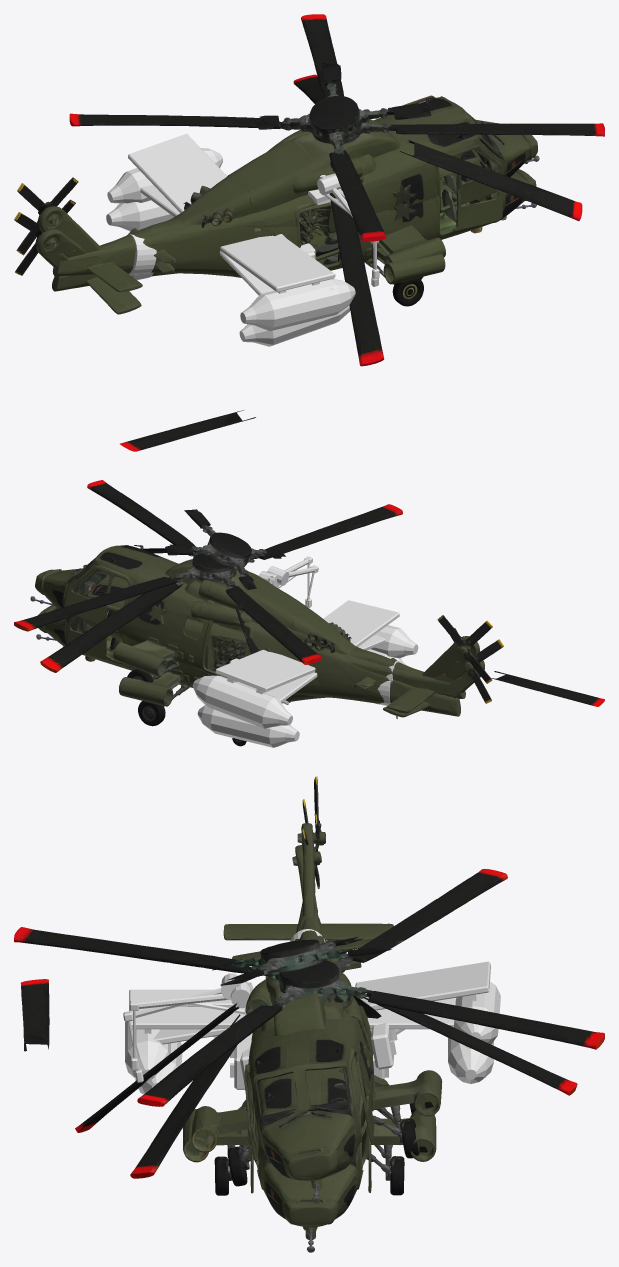
The model's file is air_medevac_heli.glb.
3 renders of one model, top to bottom at view 1: azimuth 30°, elevation 25°; view 2: azimuth 150°, elevation 25°; view 3: azimuth 270°, elevation 25°, orthographic. The views are drawn at different scales.
Parts seen in each view (by area): view 1: WRECK_hull_hull, hull_hull, WRECK_rotor_metal, medevac_hull, rotor_metal, WRECK_medevac_hull, WRECK_medevac_metal, medevac_plate; view 2: WRECK_hull_hull, hull_hull, rotor_metal, WRECK_rotor_metal, WRECK_medevac_hull, medevac_hull, WRECK_medevac_metal, medevac_metal; view 3: WRECK_hull_hull, hull_hull, rotor_metal, WRECK_rotor_metal, medevac_hull, WRECK_medevac_hull, medevac_metal, WRECK_medevac_metal.
Boxes of the visible parts, bbox=[...] form: WRECK_hull_hull: bbox=[14, 95, 539, 314]; hull_hull: bbox=[16, 149, 536, 306]; WRECK_rotor_metal: bbox=[120, 62, 582, 451]; medevac_hull: bbox=[106, 185, 355, 331]; rotor_metal: bbox=[69, 14, 604, 241]; WRECK_medevac_hull: bbox=[107, 133, 350, 346]; WRECK_medevac_metal: bbox=[308, 173, 378, 286]; medevac_plate: bbox=[127, 234, 156, 275]; WRECK_hull_hull: bbox=[30, 545, 503, 718]; hull_hull: bbox=[36, 574, 492, 746]; rotor_metal: bbox=[14, 480, 402, 664]; WRECK_rotor_metal: bbox=[40, 509, 604, 706]; WRECK_medevac_hull: bbox=[192, 634, 406, 728]; medevac_hull: bbox=[197, 600, 418, 747]; WRECK_medevac_metal: bbox=[267, 565, 318, 606]; medevac_metal: bbox=[259, 556, 312, 704]; WRECK_hull_hull: bbox=[191, 799, 442, 1202]; hull_hull: bbox=[183, 776, 436, 1252]; rotor_metal: bbox=[14, 869, 604, 1106]; WRECK_rotor_metal: bbox=[20, 936, 577, 1178]; medevac_hull: bbox=[125, 989, 493, 1089]; WRECK_medevac_hull: bbox=[135, 961, 500, 1094]; medevac_metal: bbox=[129, 981, 404, 1077]; WRECK_medevac_metal: bbox=[123, 973, 397, 1082].
Bounding box in the file's own units: 5.39 × 1.91 × 4.32.
Materials: 1 (1 with a texture image).
